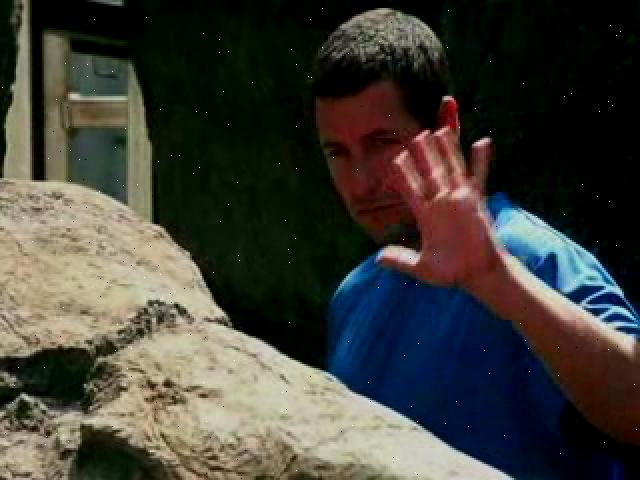L: (313, 6, 640, 477)
